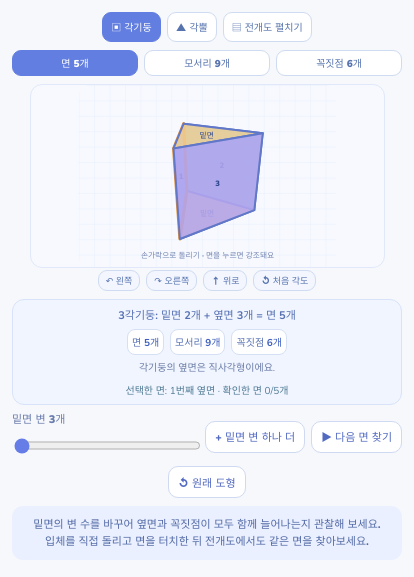
Test: 각기둥·각뿔을 손으로 돌리고 면을 실제로 클릭하기 › 각뿔로 바꾸면 3각뿔의 면 4개, 모서리 6개, 꼭짓점 4개가 된다
Later steps or results of the test are not shown.
Click the button "▲ 각뿔". click: (192, 27)
box: [167,12,217,42]
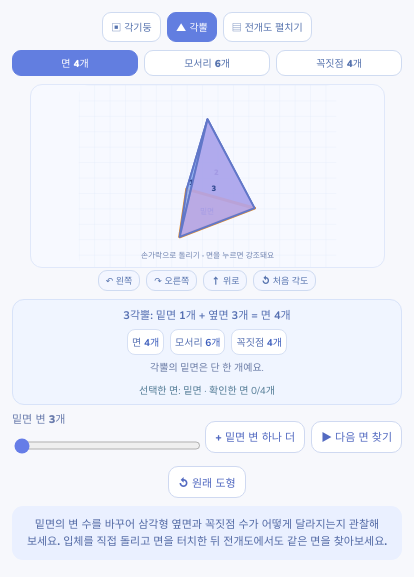
Expected: the text "3각뿔: 밑면 1개 + 옆면 3개 = 면 4개" is shown, [123,308,291,323]
Expected: the button "모서리 6개" is shown, [144,50,270,76]
Expected: the button "꼭짓점 4개" is shown, [276,50,402,76]
